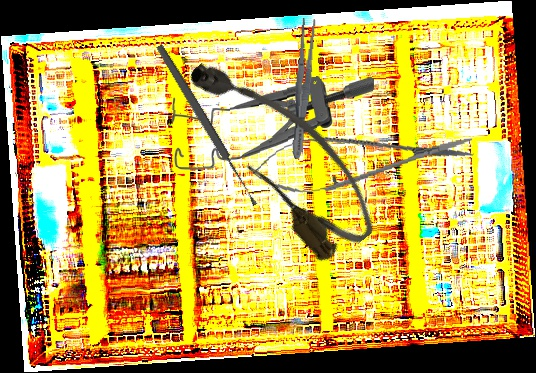Cannula: (175, 32, 390, 271)
Dressing Forceps: (287, 17, 319, 160)
Micro Scissor: (249, 118, 477, 202)
Speculum: (170, 74, 377, 171)
Surgical Spoon: (154, 42, 260, 209)
